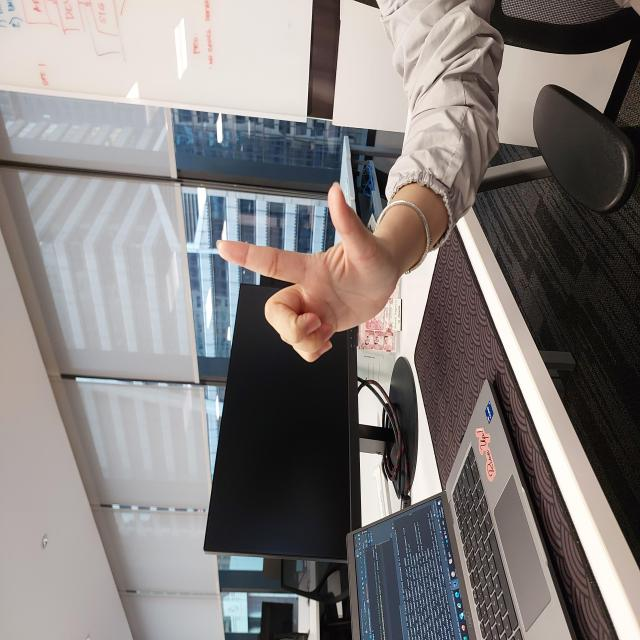L: (276, 214, 458, 396)
